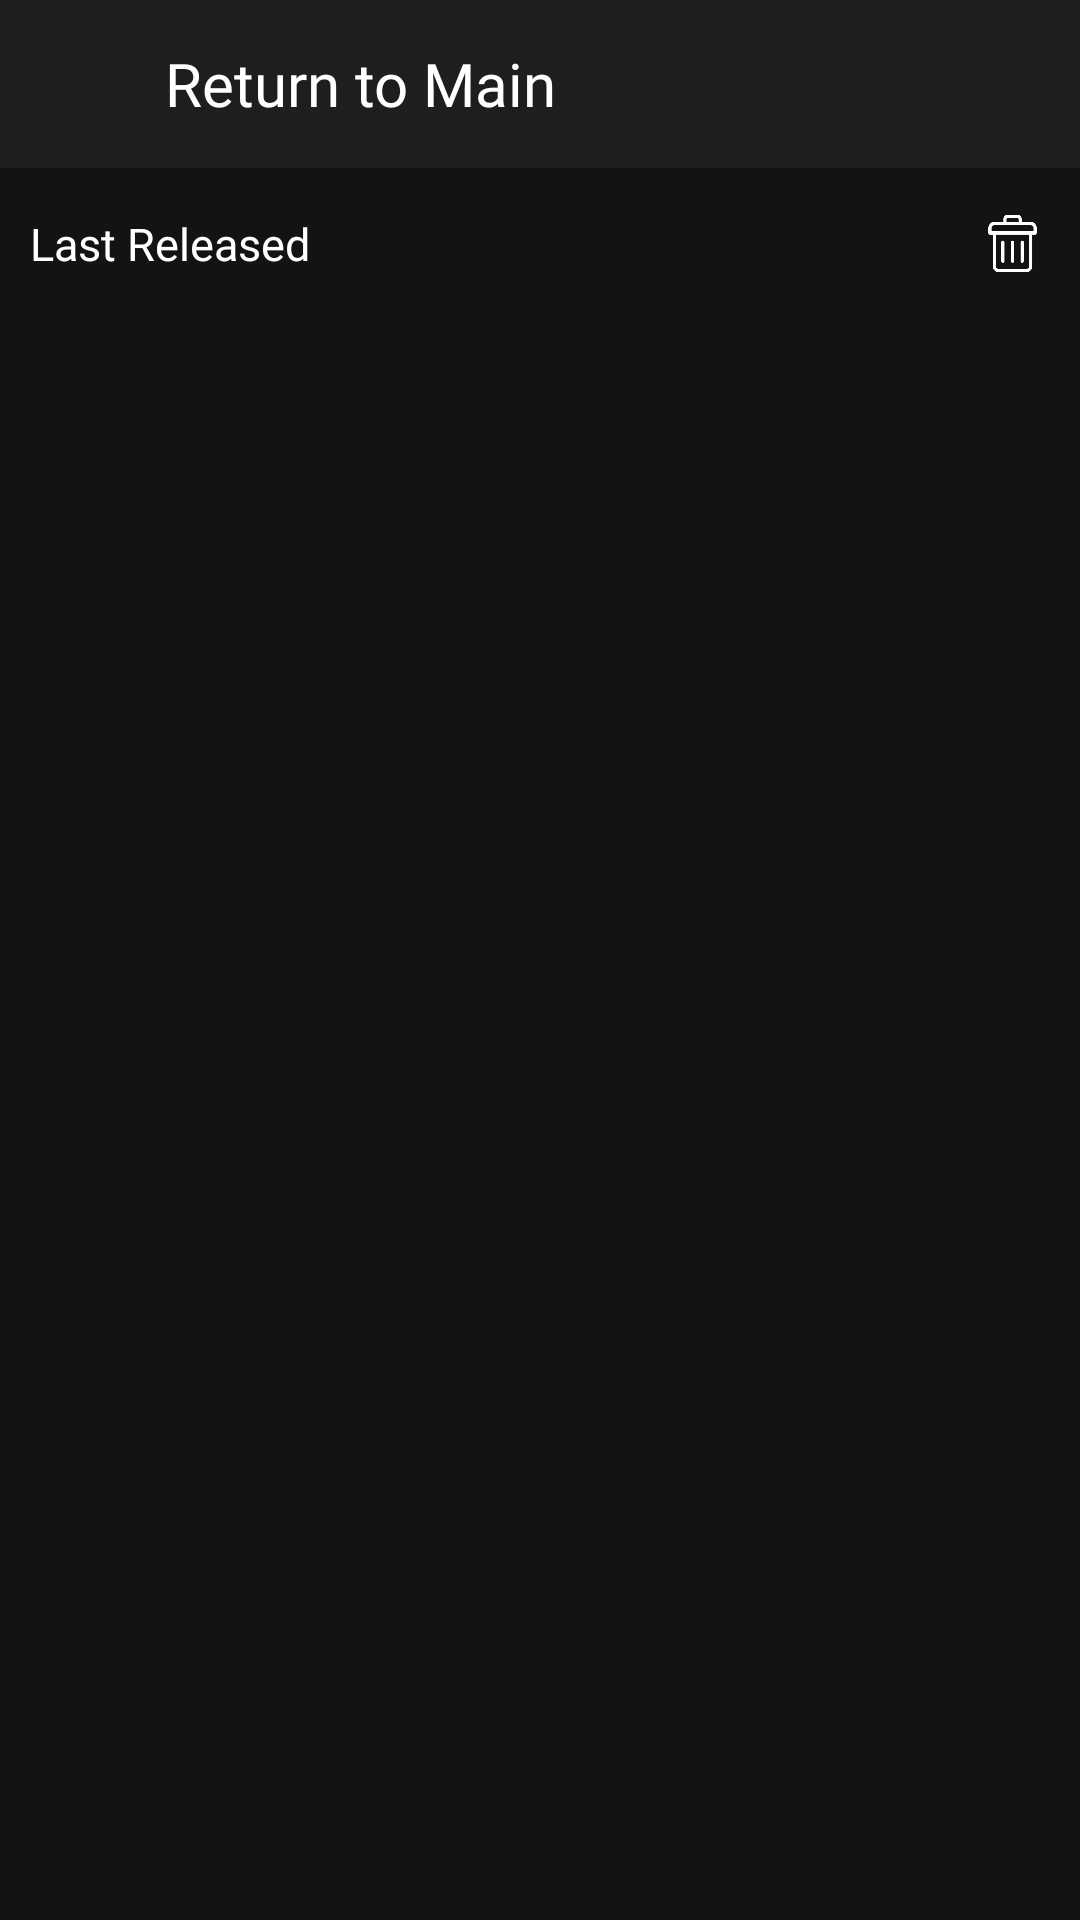

Icons on this 1080x1920 Android screen, each with its box as (x1, y1, x2, y2):
trash: (988, 215, 1037, 272)
